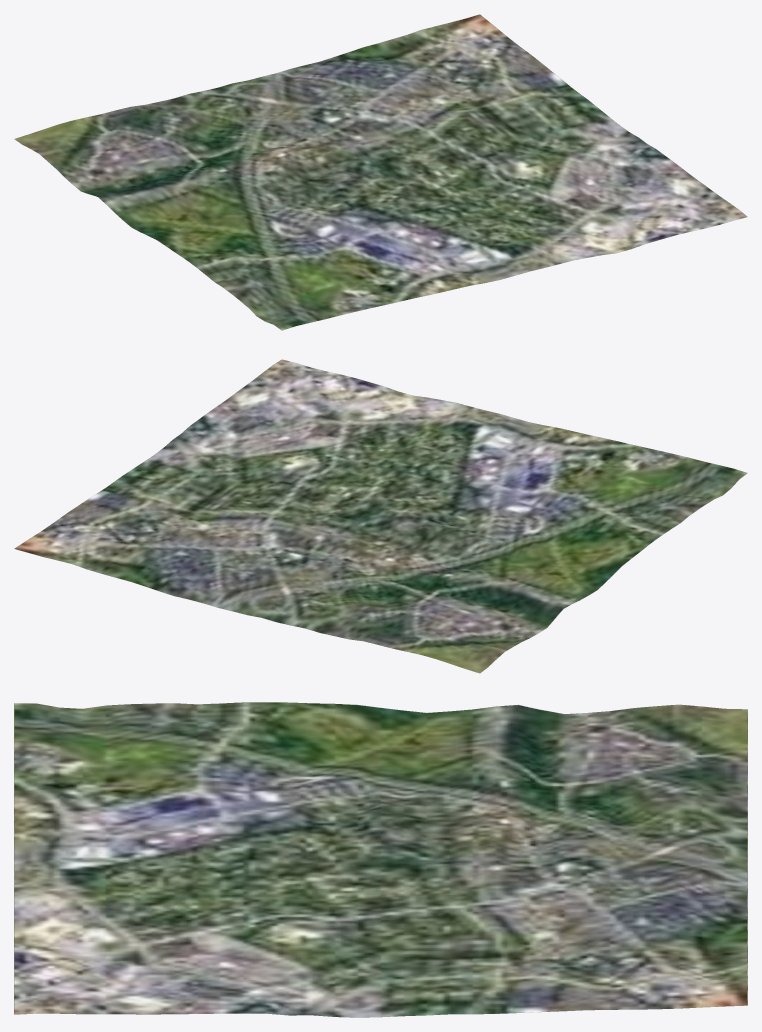
3 renders of one model, top to bottom at view 1: azimuth 30°, elevation 25°; view 2: azimuth 150°, elevation 25°; view 3: azimuth 270°, elevation 25°, orthographic. The views are drawn at different scales.
Size of the model in its own units: 1950 by 58.21 by 1942.
Materials: 1 (1 with a texture image).
